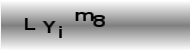8: (93, 13, 106, 28)
L: (22, 17, 36, 31)
Y: (42, 19, 56, 34)
i: (57, 24, 63, 38)
m: (74, 11, 93, 21)
